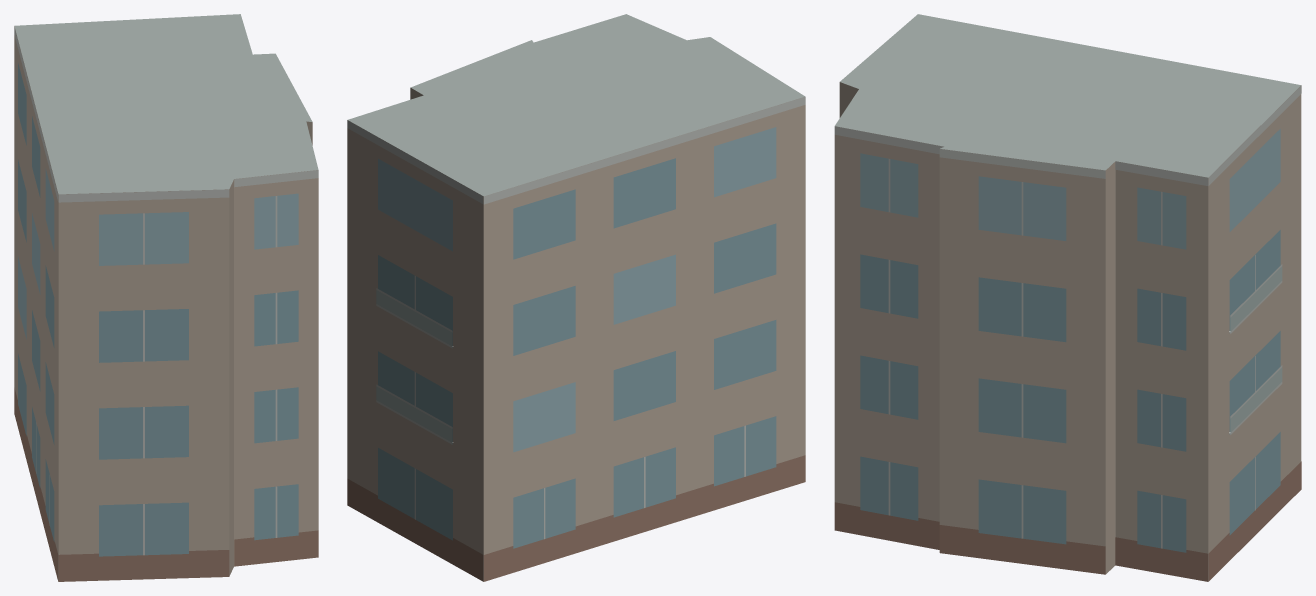
Rendered from survey-upis-32527278.glb.
3 renders of one model, left to right at view 1: azimuth 30°, elevation 25°; view 2: azimuth 150°, elevation 25°; view 3: azimuth 270°, elevation 25°, orthographic. The views are drawn at different scales.
Visible parts, largest first — view 1: survey-upis-32527278.tmp; view 2: survey-upis-32527278.tmp; view 3: survey-upis-32527278.tmp.
Part boxes in pixels (<box>): survey-upis-32527278.tmp: <box>14,14,318,581</box>; survey-upis-32527278.tmp: <box>347,14,805,581</box>; survey-upis-32527278.tmp: <box>834,14,1301,581</box>.
Size of the model in its own units: 9.99 by 11.5 by 12.05.
